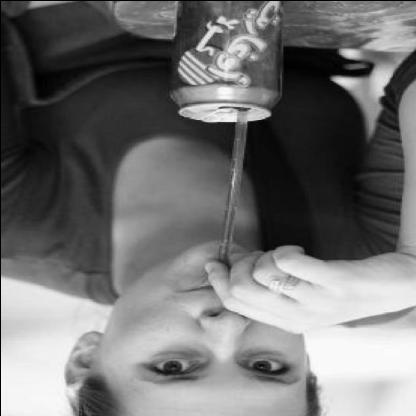alumunium_can: (168, 0, 286, 122)
